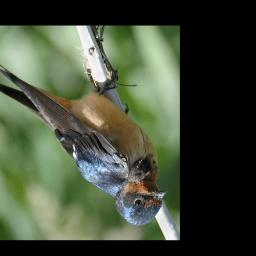Swallow: (0, 43, 169, 226)
